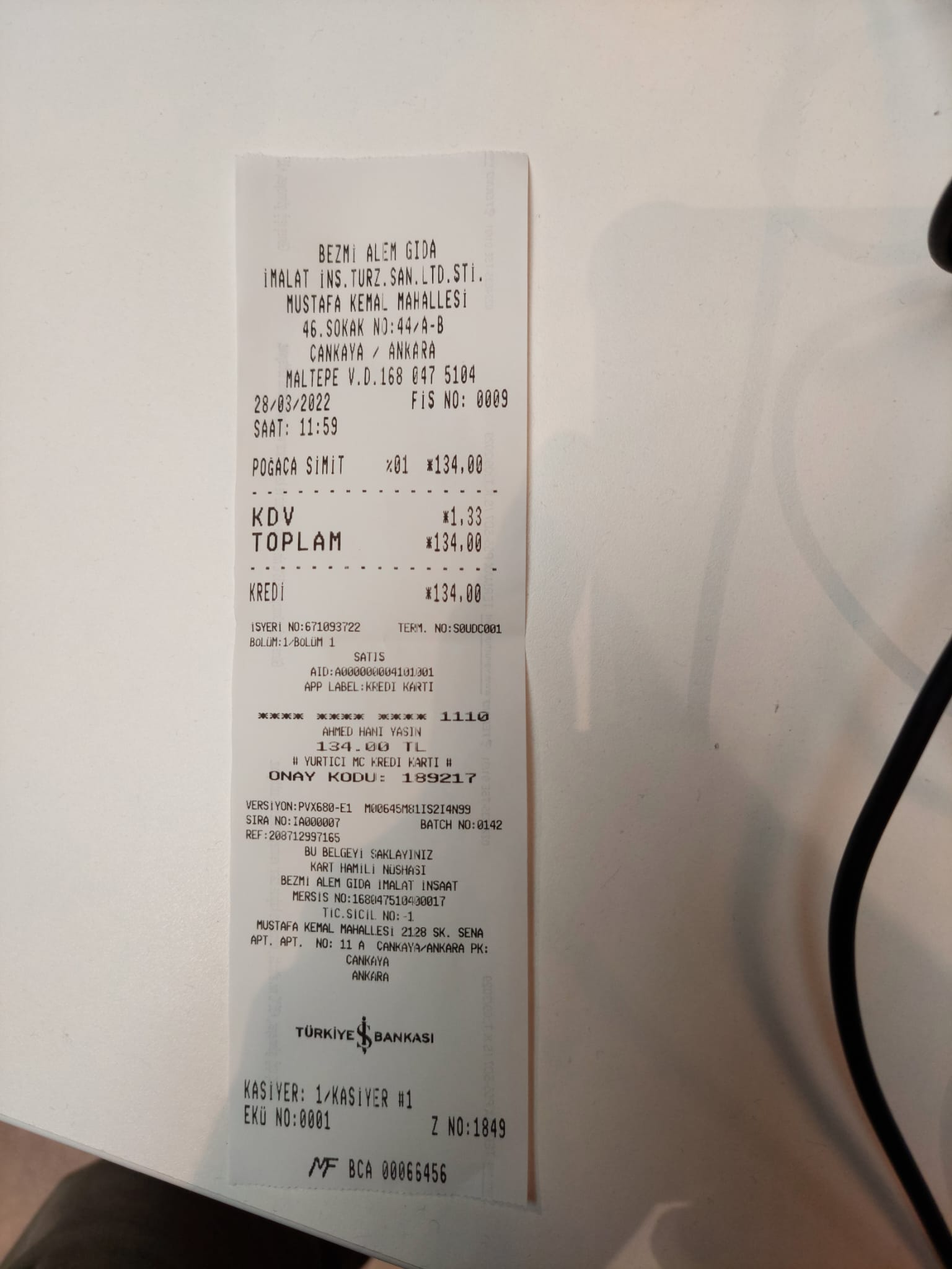date: (431, 526, 493, 560)
price: (249, 389, 335, 416)
workplace: (256, 227, 493, 366)
